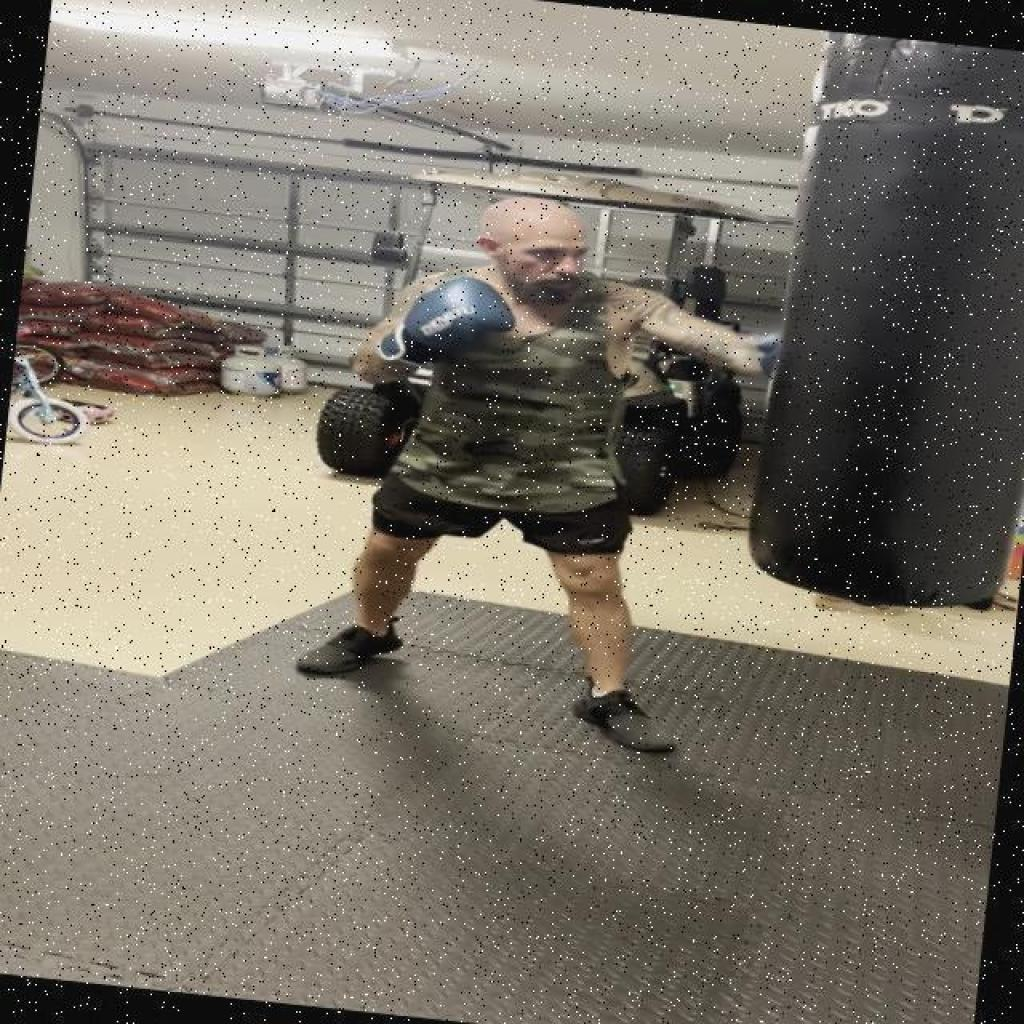jab: (344, 156, 822, 474)
